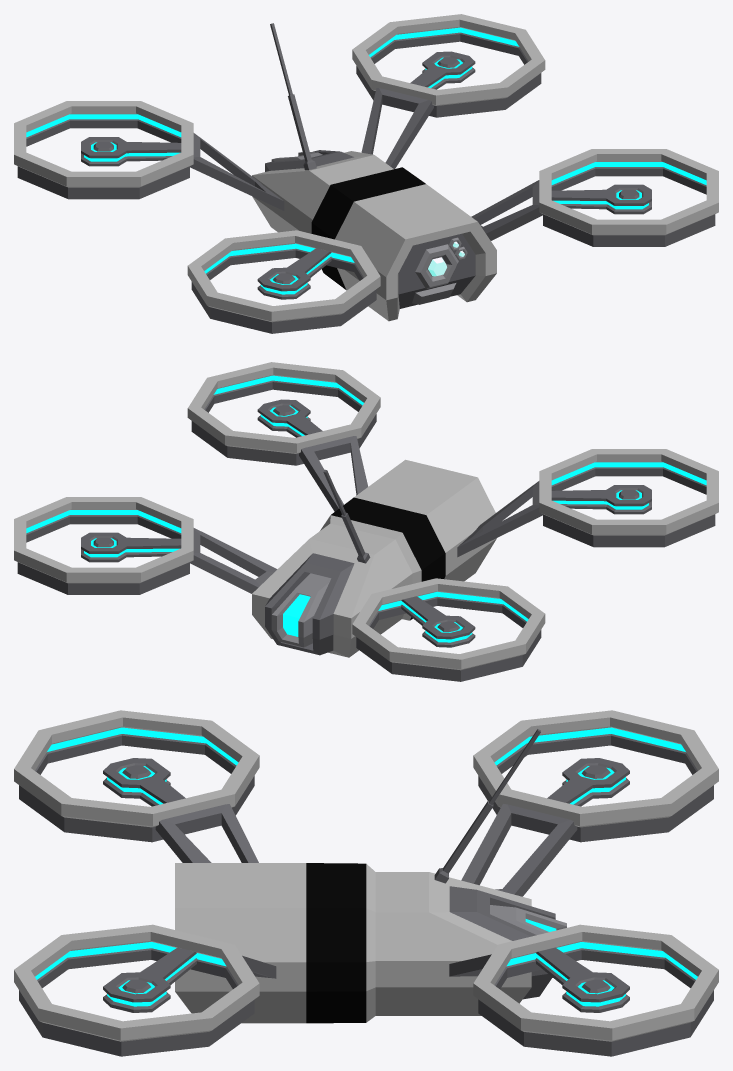
File: Drone_Black.glb
3 renders of one model, top to bottom at view 1: azimuth 30°, elevation 25°; view 2: azimuth 150°, elevation 25°; view 3: azimuth 270°, elevation 25°, orthographic. The views are drawn at different scales.
Visible parts, largest first — view 1: default; view 2: default; view 3: default.
Boxes of the visible parts, box(x1,y1,x2,y2) form: default: box(14, 14, 718, 333); default: box(14, 362, 718, 681); default: box(14, 710, 718, 1056).
Size of the model in its own units: 1.25 by 0.4568 by 1.17.
1 material, 1 textured.
